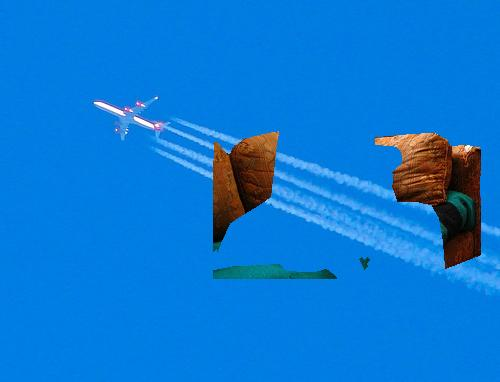tampered: (214, 132, 481, 279)
